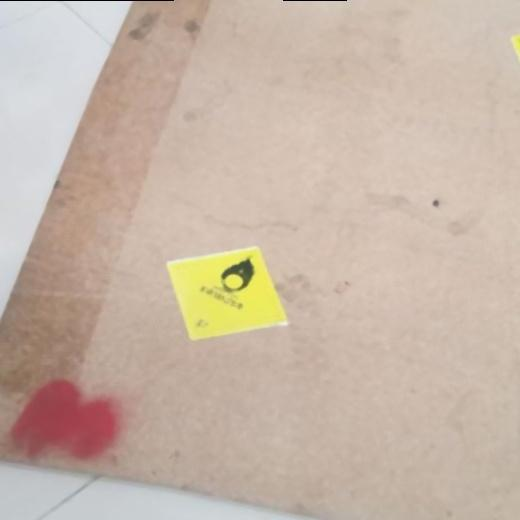oxidizer: (165, 242, 294, 342)
